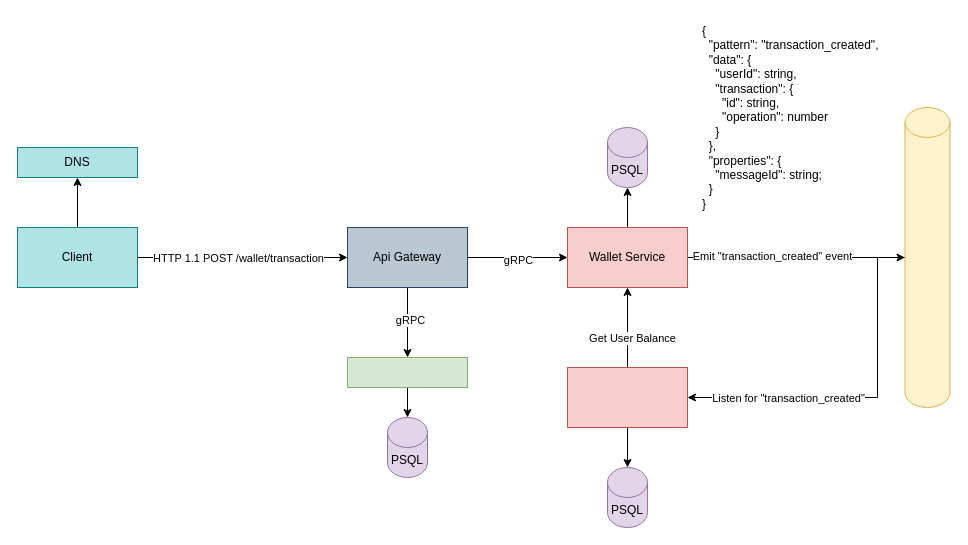
Image size: 968x545. Some labels were removed from this diagram. The shapes that lost their labels are listed below. From the top down, each one's centre as x and y in pixels, then its label:
At point (927, 257): "RabbitMQ".
At point (407, 372): "Auth Service".
At point (627, 397): "Statement Service".
